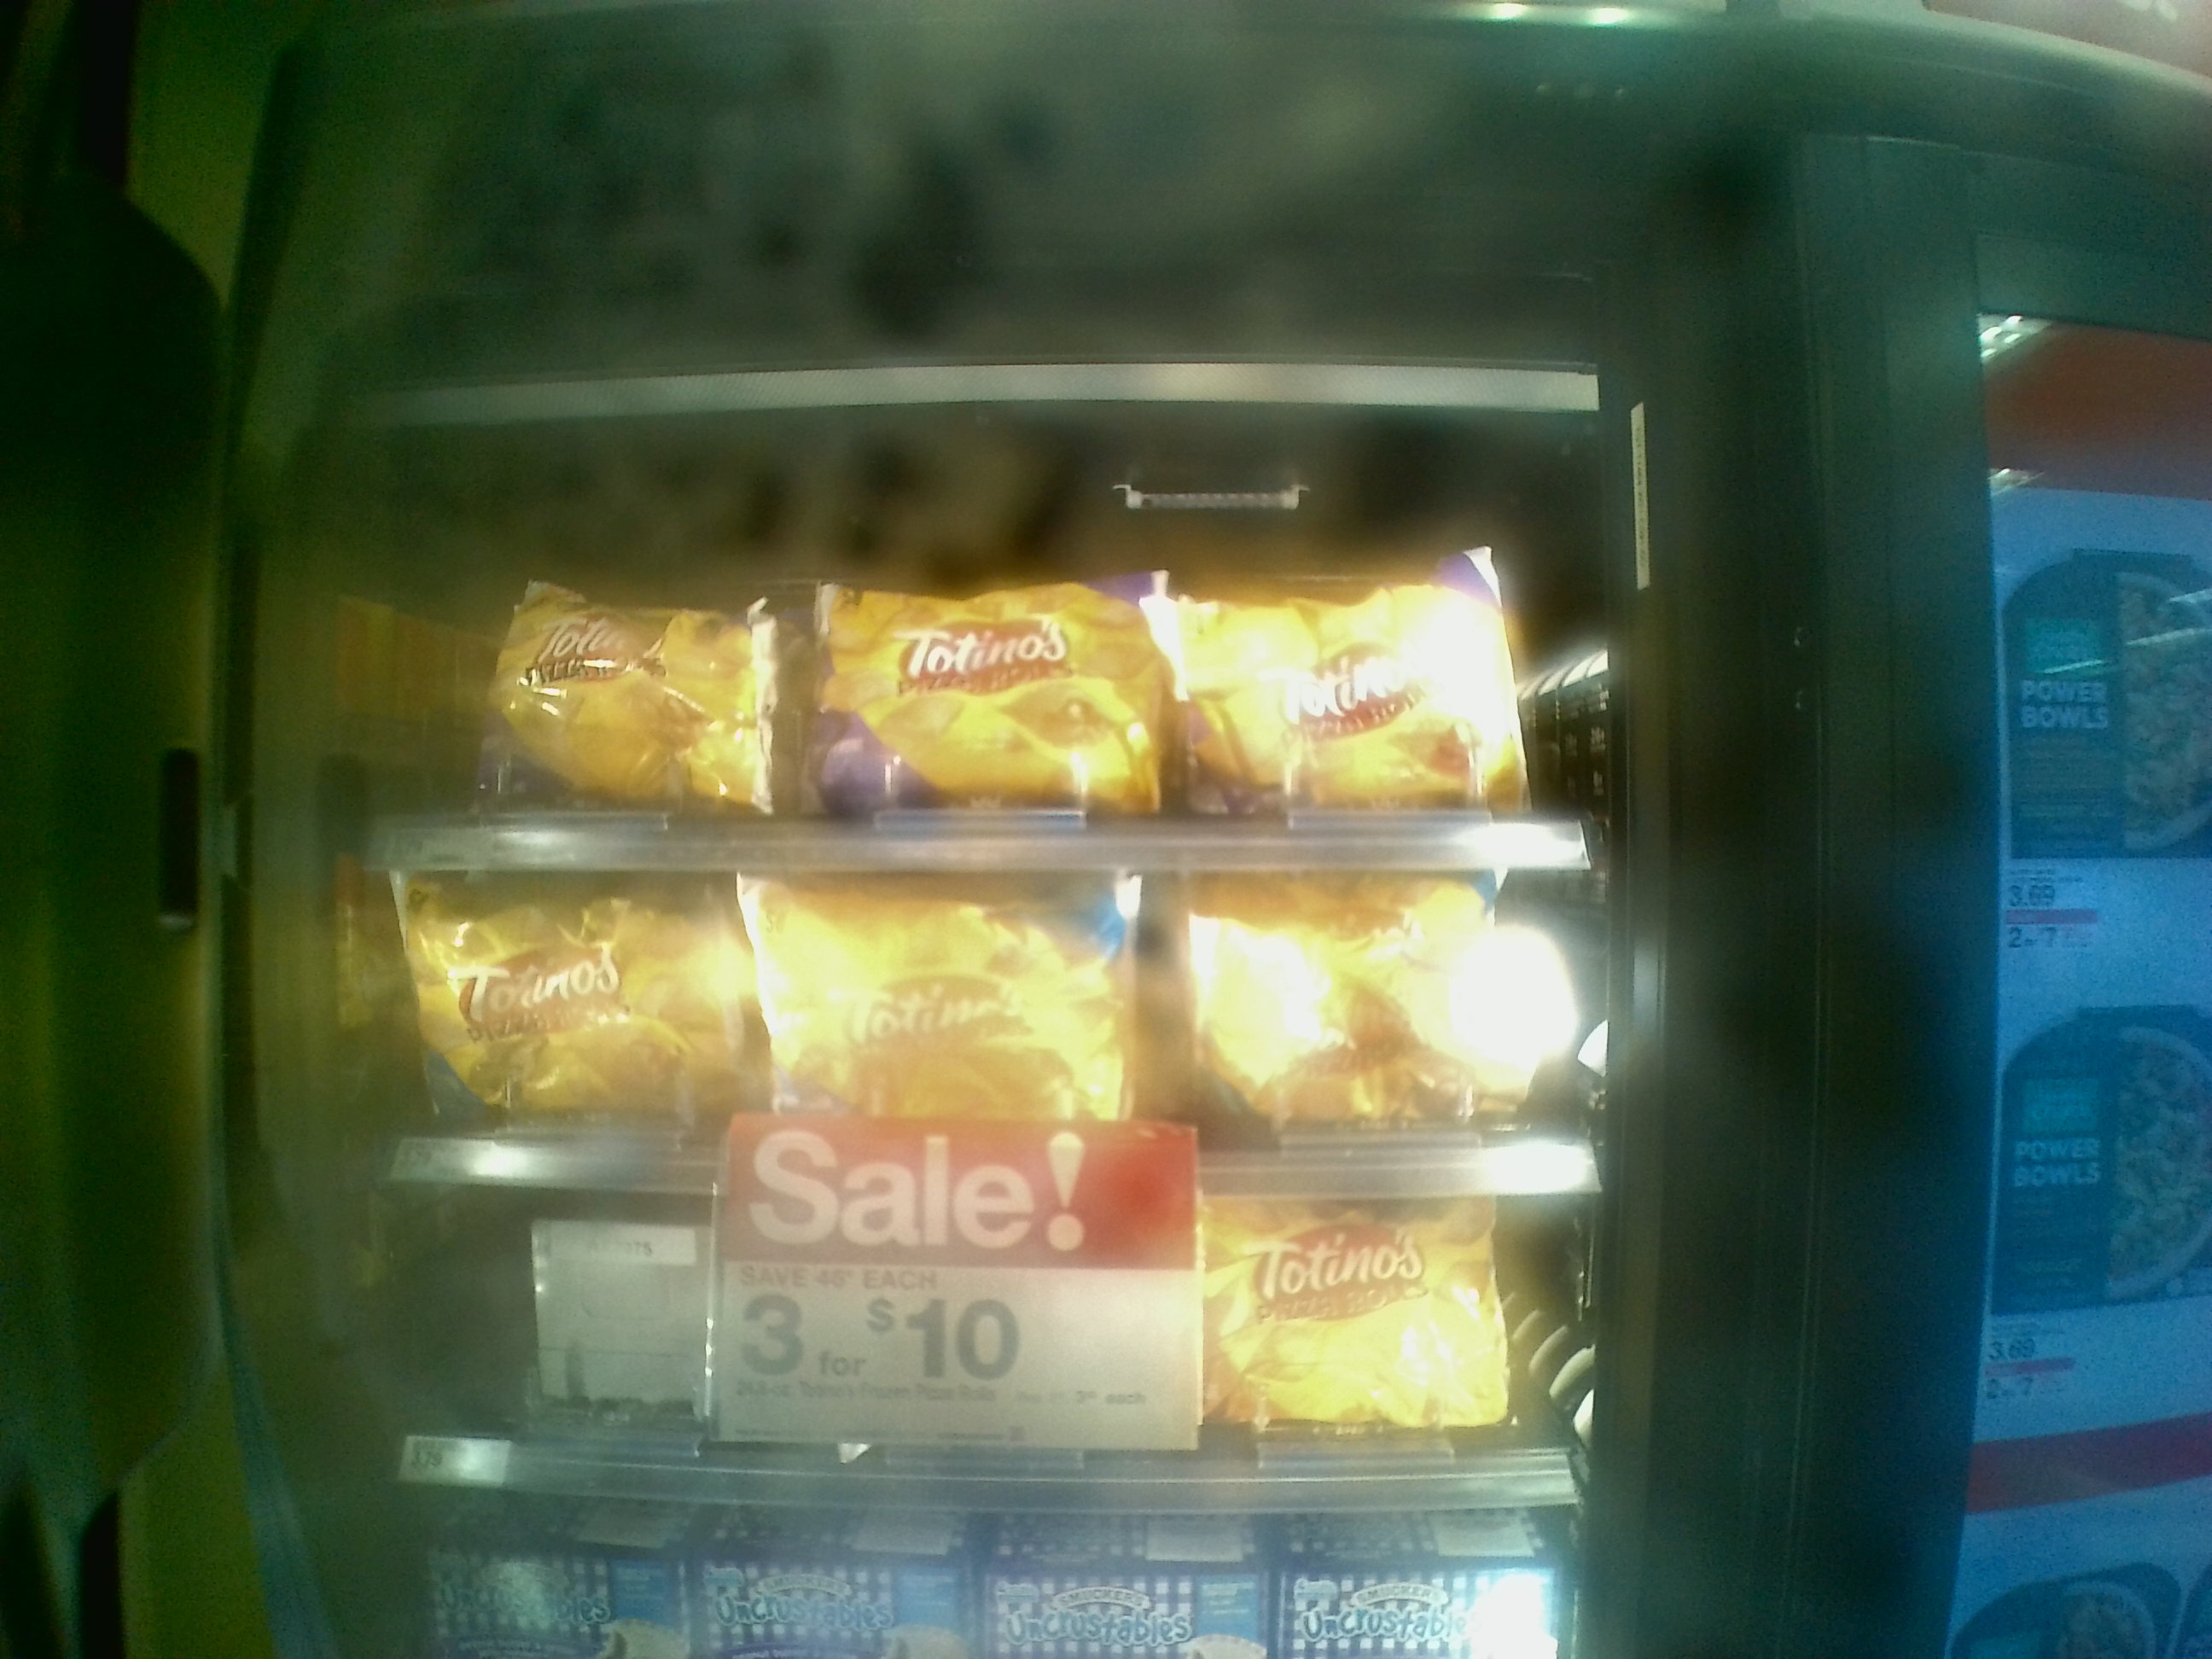shelf: (369, 422, 1599, 877), (364, 871, 1594, 1204), (364, 1197, 1592, 1513)
